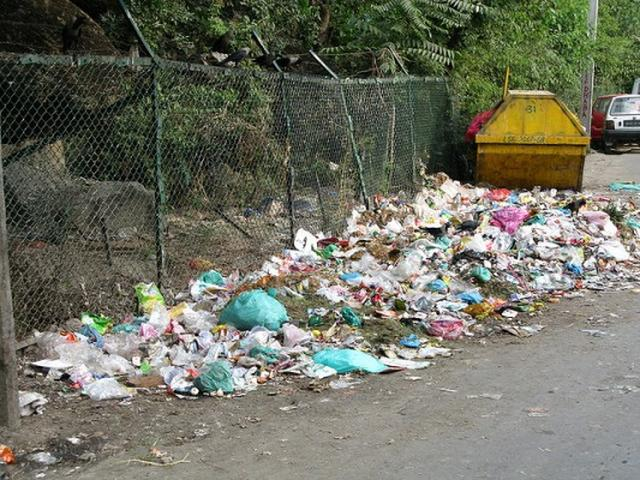garbage: (104, 316, 385, 388), (302, 244, 499, 321)
